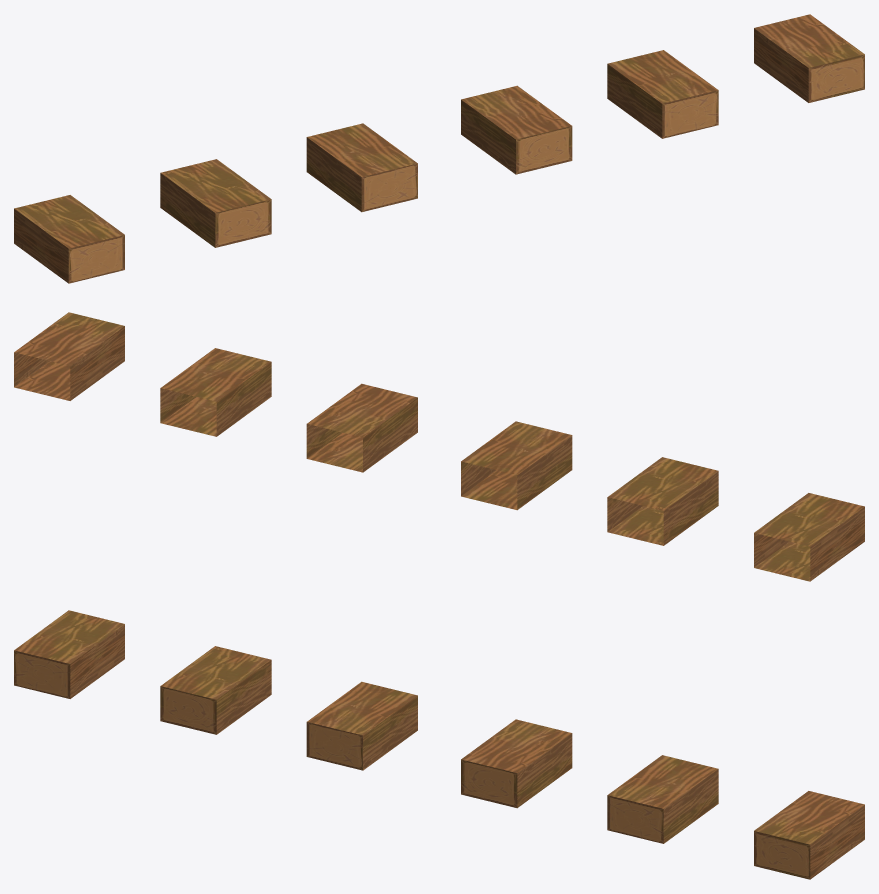
File: Roof_FrontSupports.glb
3 renders of one model, top to bottom at view 1: azimuth 30°, elevation 25°; view 2: azimuth 150°, elevation 25°; view 3: azimuth 330°, elevation 25°, orthographic.
Parts seen in each view (by area): view 1: Roof_FrontSupports; view 2: Roof_FrontSupports; view 3: Roof_FrontSupports.
Boxes of the visible parts, left/top/right/bottom form: Roof_FrontSupports: left=14, top=14, right=864, bottom=283; Roof_FrontSupports: left=14, top=312, right=864, bottom=581; Roof_FrontSupports: left=14, top=610, right=864, bottom=879.
Bounding box in the file's own units: 5.49 × 0.2311 × 0.6543.
1 material, 1 textured.
